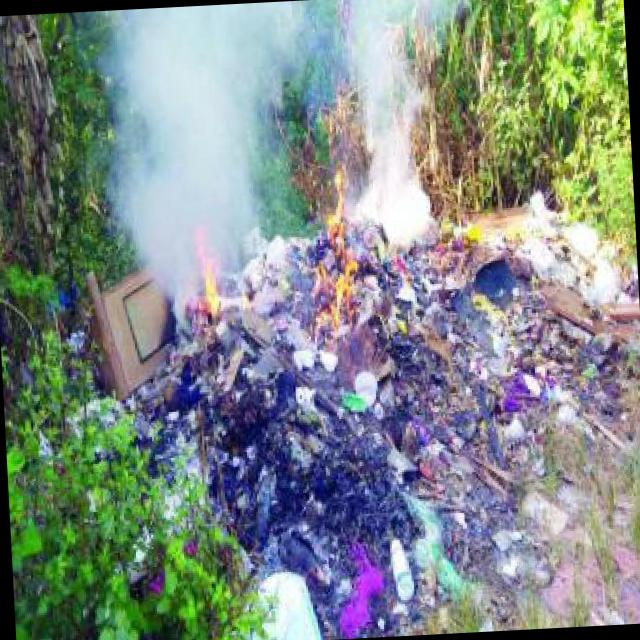Fire: (308, 154, 370, 348), (191, 228, 224, 320)
Smoke: (115, 1, 306, 292), (353, 0, 467, 252)
